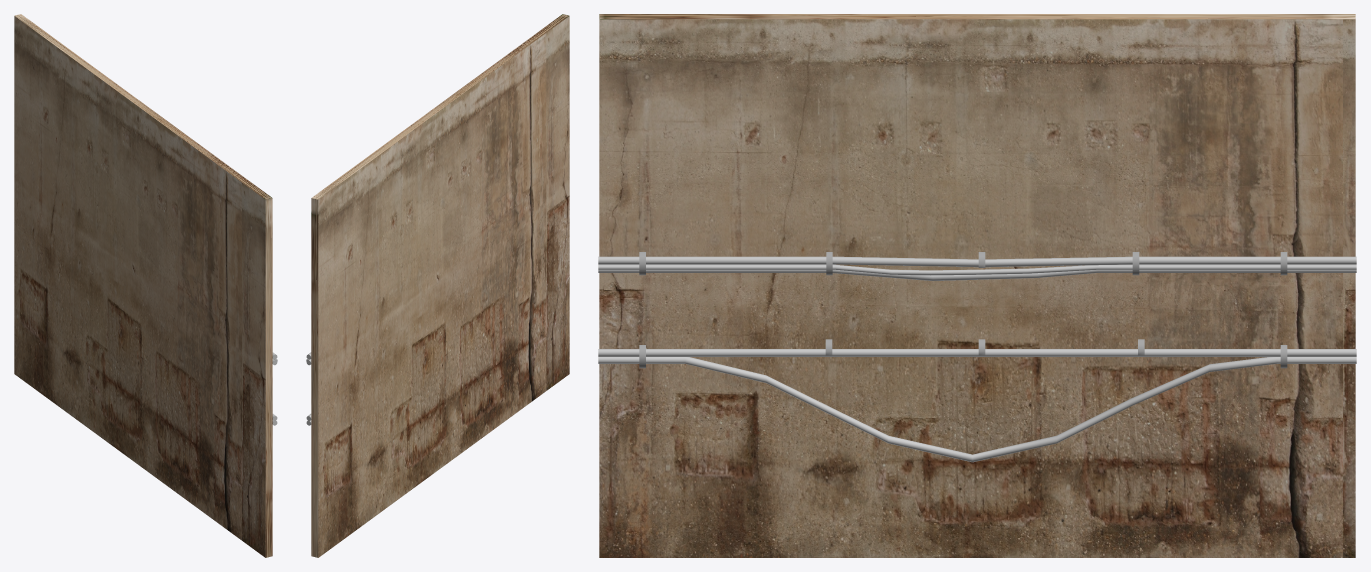
Rendered from Temp_wall_wires.fbx.
The picture shows the model from 3 angles, left to right: view 1: azimuth 30°, elevation 25°; view 2: azimuth 150°, elevation 25°; view 3: azimuth 270°, elevation 25°; orthographic projection. The views are drawn at different scales.
Parts seen in each view (by area): view 1: pCube1; view 2: pCube1; view 3: pCube1, wire1, wire5, wire4, wire3, wire2.
Part boxes in pixels (x1,y1,x2,y2): pCube1: (14,14,272,557); pCube1: (311,14,569,557); pCube1: (599,14,1355,557); wire1: (598,256,1356,267); wire5: (598,357,1356,462); wire4: (598,349,1356,356); wire3: (598,264,1356,275); wire2: (598,269,1356,280).
Size of the model in its own units: 0.082 by 2.07 by 2.64.
